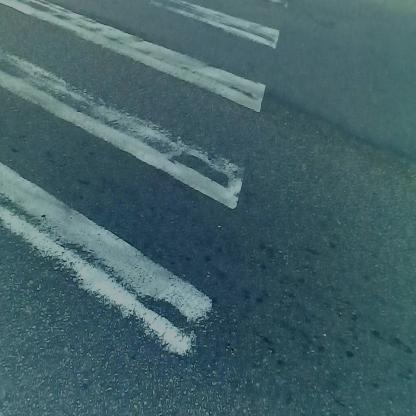crosswalk: (6, 17, 287, 351)
